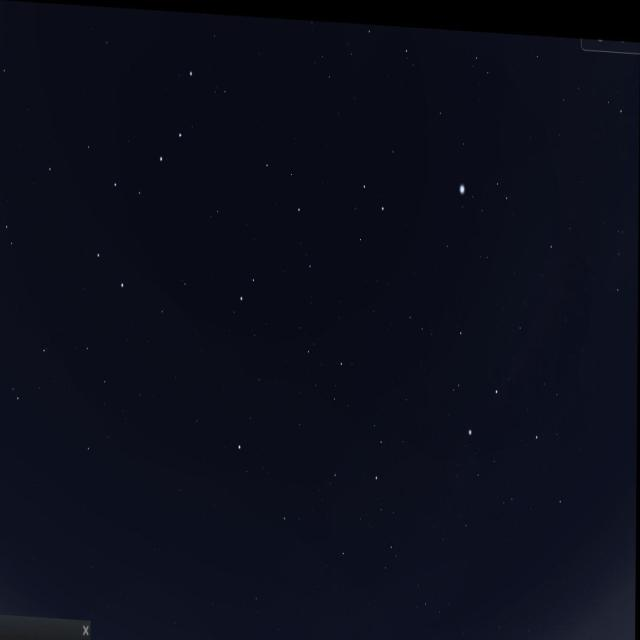cygnus: (451, 225, 570, 447)
lyra: (450, 155, 513, 230)
ursa_major: (94, 48, 202, 292)
